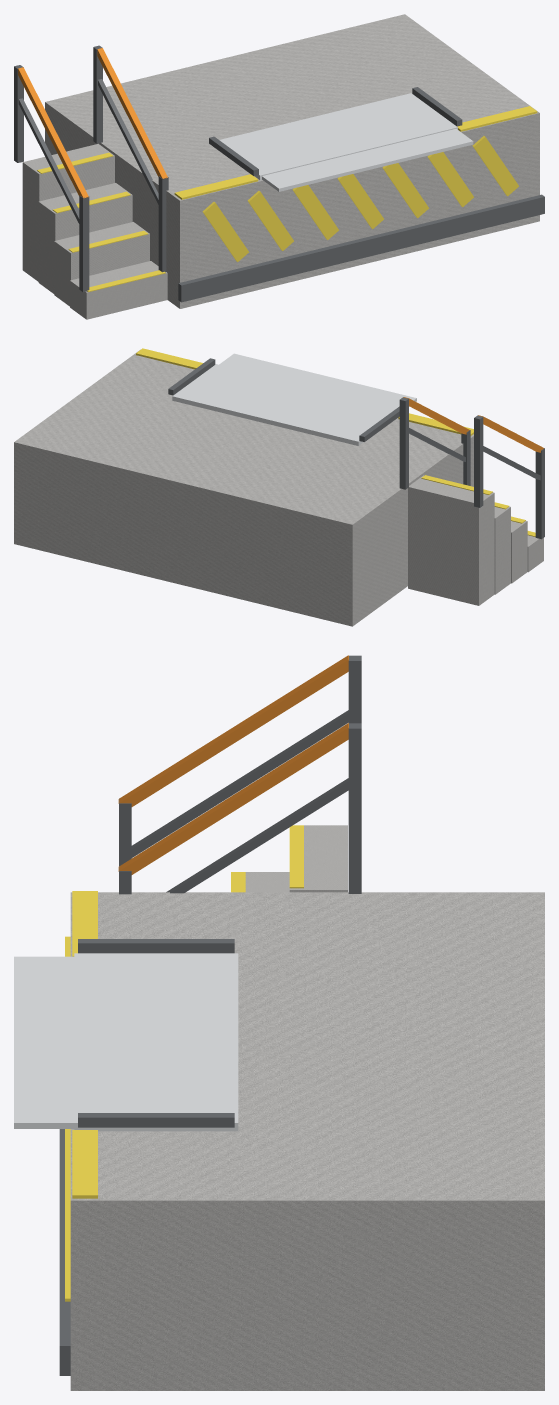
Rendered from self-storage-facility-and-loading-bay-self-storage-fac-aab8a0cb__34711.glb.
3 renders of one model, top to bottom at view 1: azimuth 30°, elevation 25°; view 2: azimuth 150°, elevation 25°; view 3: azimuth 270°, elevation 25°, orthographic. The views are drawn at different scales.
Parts seen in each view (by area): view 1: self-storage-facility-and-loading-bay-loading-dock-with-leve (×5); view 2: self-storage-facility-and-loading-bay-loading-dock-with-leve (×5); view 3: self-storage-facility-and-loading-bay-loading-dock-with-leve (×5).
Part boxes in pixels (left/top/right/bottom): self-storage-facility-and-loading-bay-loading-dock-with-leve (×5): left=14, top=14, right=544, bottom=319; self-storage-facility-and-loading-bay-loading-dock-with-leve (×5): left=14, top=348, right=544, bottom=626; self-storage-facility-and-loading-bay-loading-dock-with-leve (×5): left=14, top=655, right=544, bottom=1390.
Bounding box in the file's own units: 4.94 × 2.15 × 2.91.
5 materials, 1 textured.
